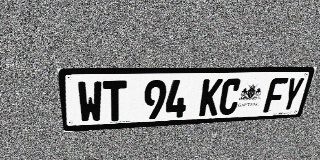4: (165, 79, 189, 118)
9: (143, 80, 167, 120)
C: (218, 78, 243, 115)
F: (263, 78, 289, 113)
K: (198, 79, 223, 116)
T: (103, 80, 127, 122)
W: (77, 81, 103, 123)
Y: (279, 77, 305, 112)
